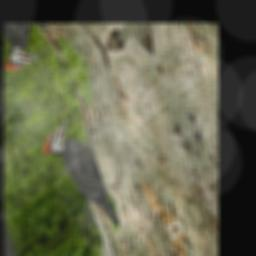Woodpecker: (36, 102, 138, 253)
